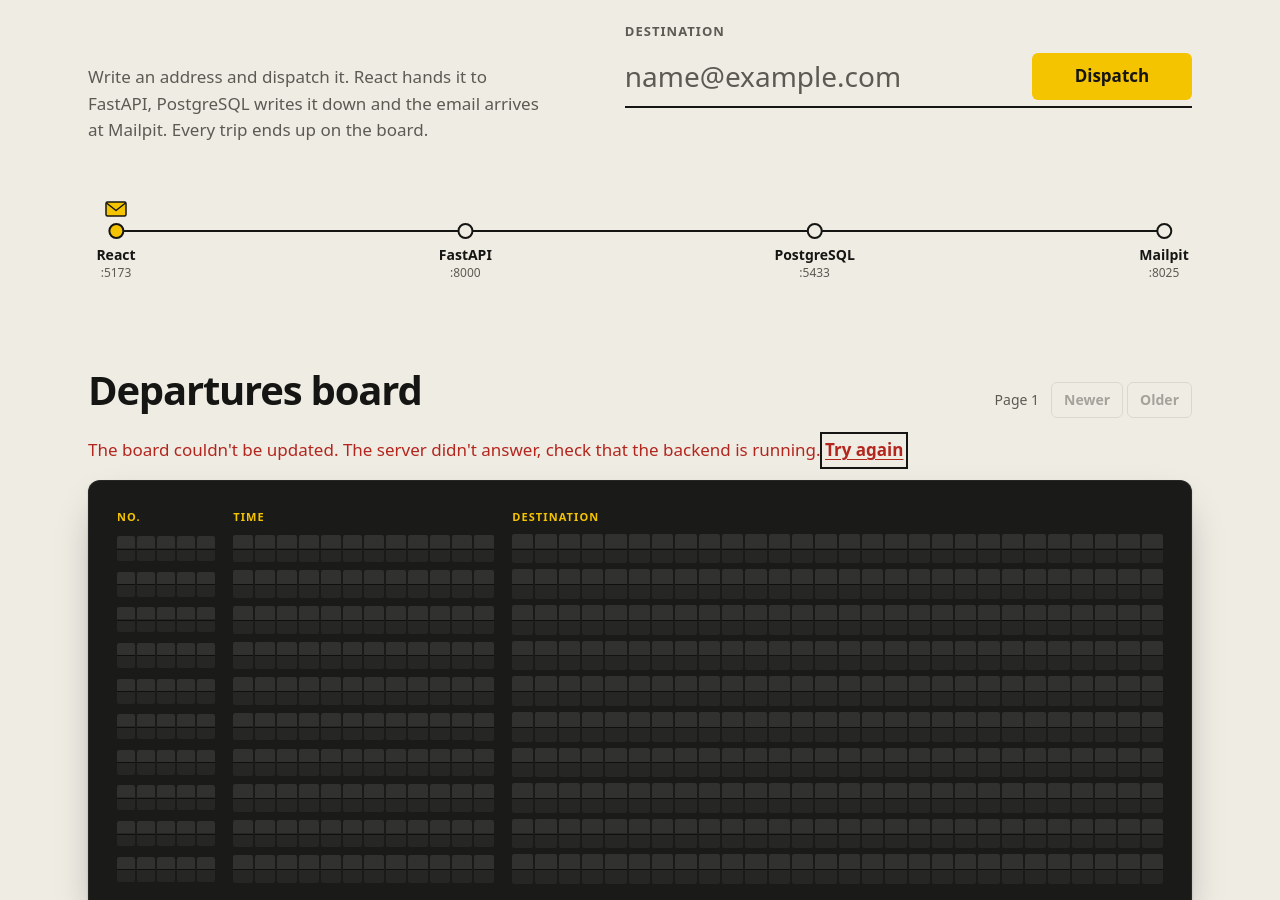
Scenario: HomePage board › a retry that works takes the focus to the board, not to the top of the page
The width and height of the screenshot is (1280, 900).
(page scrolled)
Click the button "Try again".
click(864, 451)  # box [825,437,904,464]
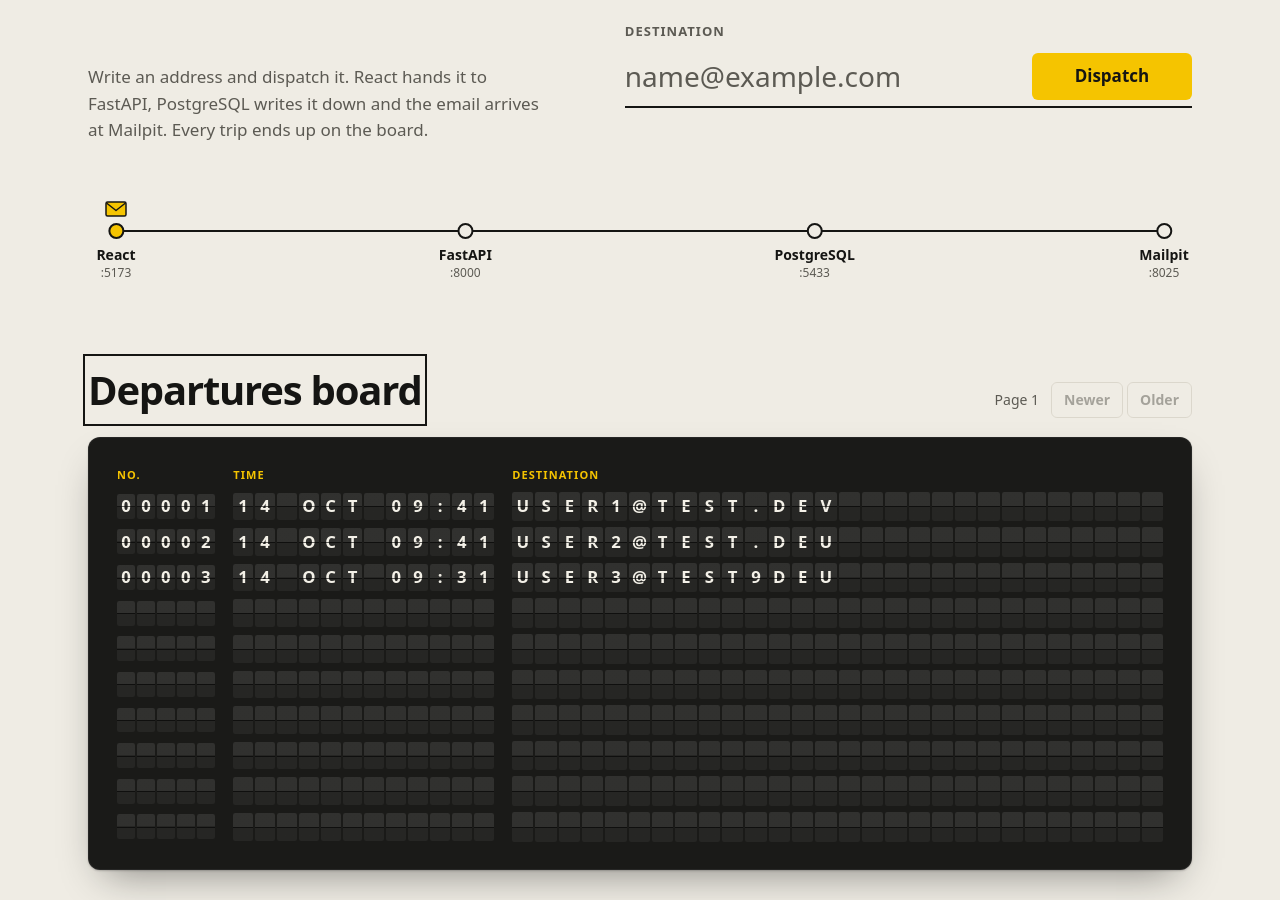
Check: the button "Try again" is gone
